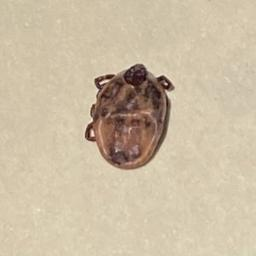Rhipicephalus sanguineus: (83, 63, 174, 170)
